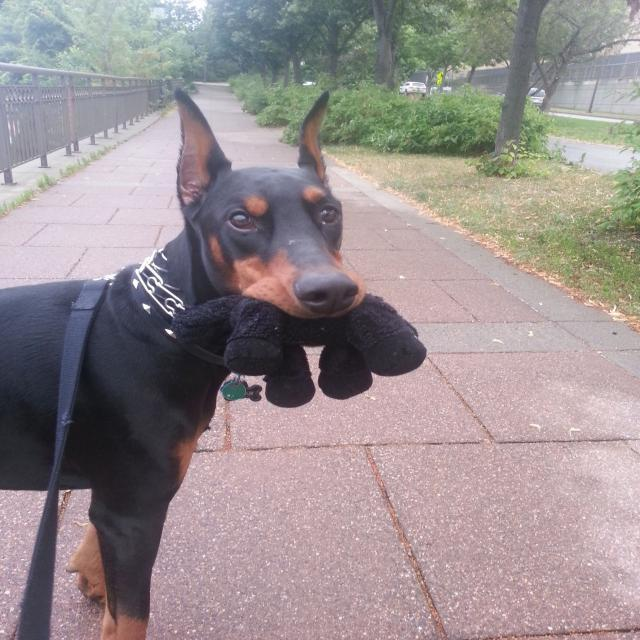Dogs: (0, 82, 369, 640)
